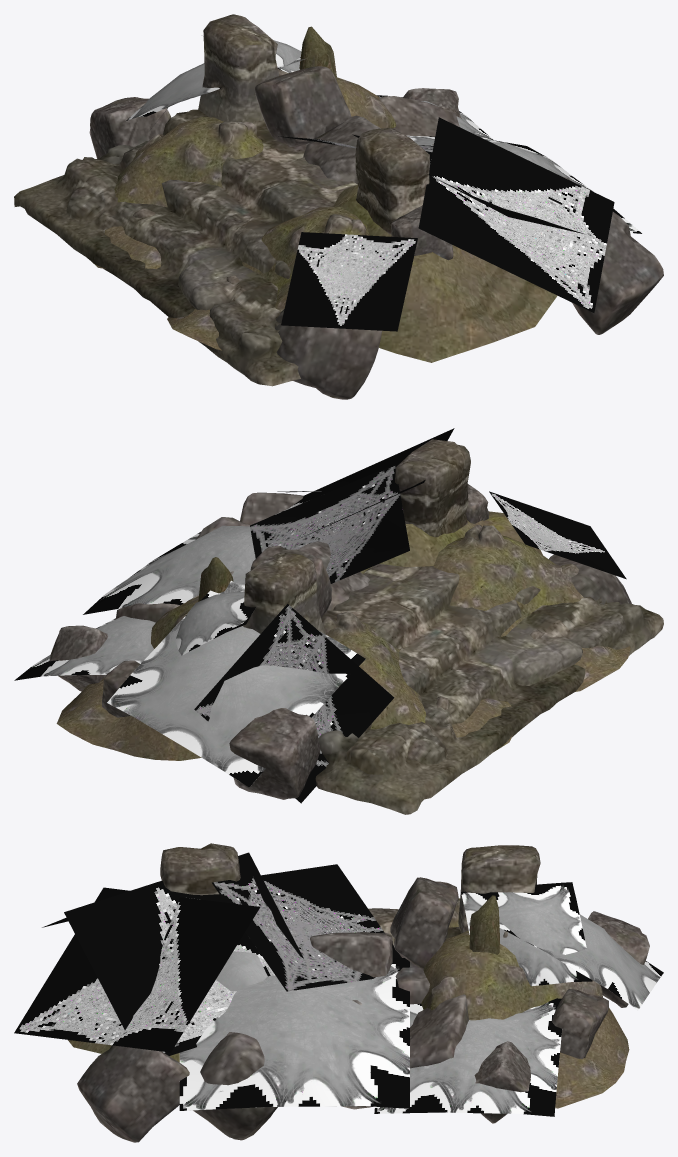
File: Special_01-transformed.glb
The picture shows the model from 3 angles, top to bottom: view 1: azimuth 30°, elevation 25°; view 2: azimuth 150°, elevation 25°; view 3: azimuth 270°, elevation 25°; orthographic projection. The views are drawn at different scales.
Parts seen in each view (by area): view 1: default; view 2: default; view 3: default.
Boxes of the visible parts, left/top/right/bottom form: default: left=14, top=14, right=663, bottom=399; default: left=14, top=428, right=663, bottom=814; default: left=14, top=843, right=663, bottom=1142.
Bounding box in the file's own units: 5.38 × 2.37 × 6.89.
Materials: 7 (7 with a texture image).
